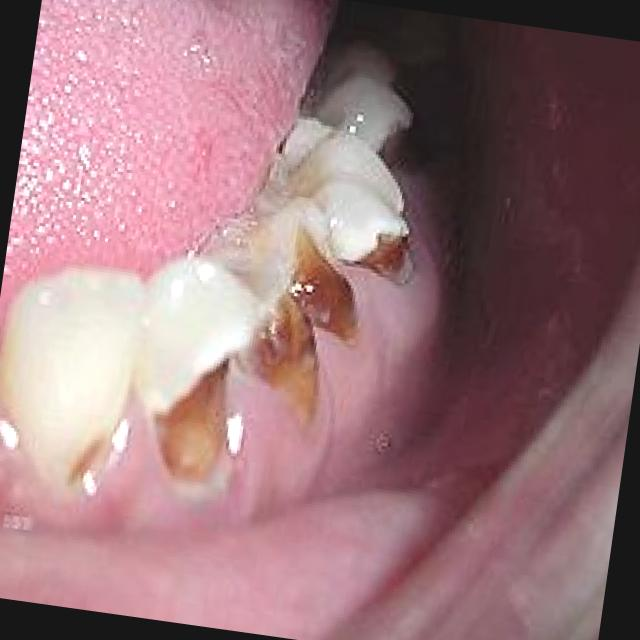caries: (0, 254, 150, 500), (125, 253, 260, 499), (293, 134, 422, 291), (250, 204, 372, 347), (226, 273, 325, 416)
